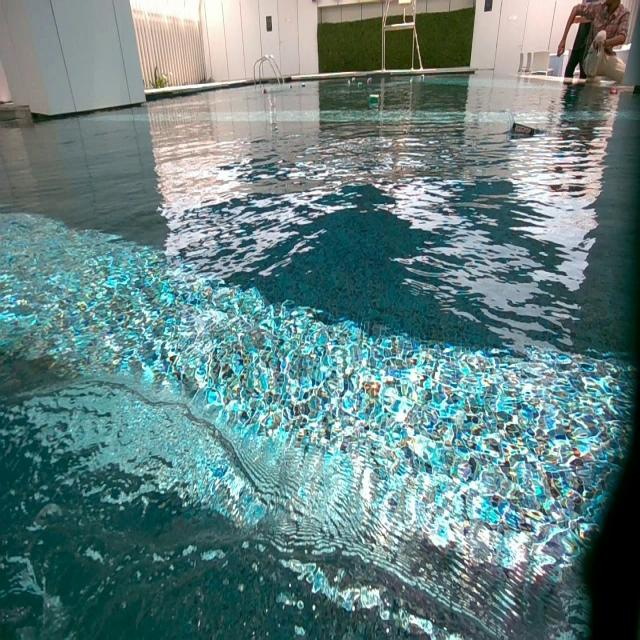Cans: (512, 120, 535, 142), (367, 95, 378, 105), (348, 77, 356, 86), (263, 90, 271, 98), (610, 89, 618, 97), (365, 76, 372, 85), (356, 83, 364, 89), (420, 75, 426, 82), (301, 83, 306, 88), (288, 84, 293, 89)
